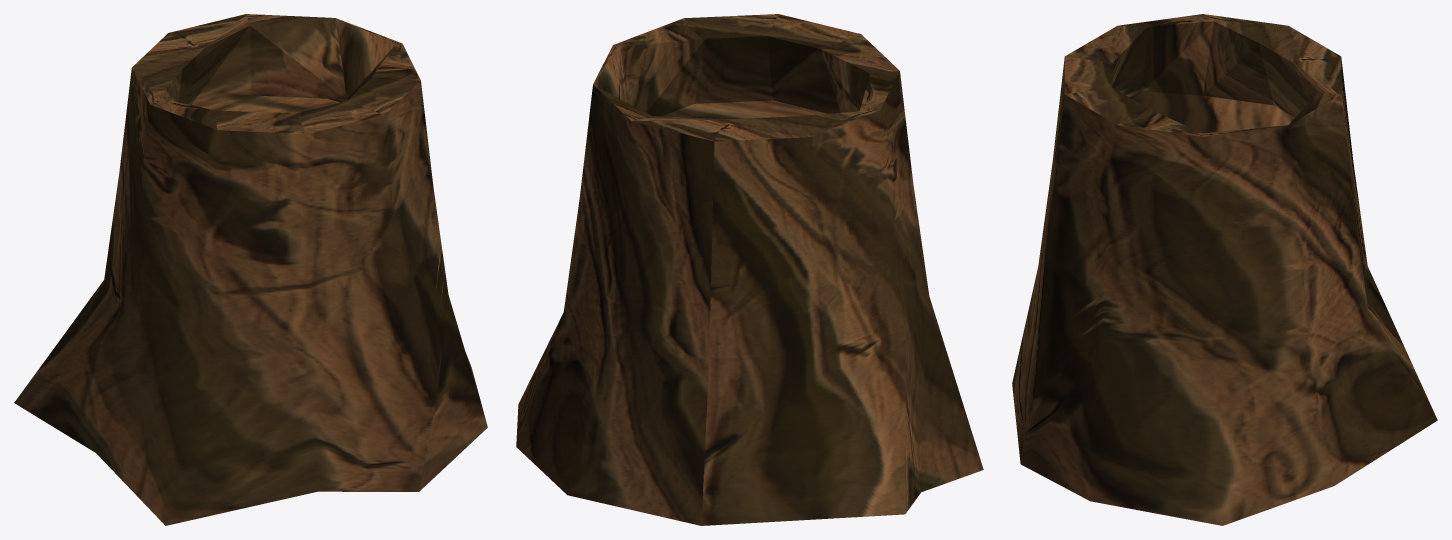
File: tree6.FBX
3 views of the same model, side by side, from view 1: azimuth 30°, elevation 25°; view 2: azimuth 150°, elevation 25°; view 3: azimuth 270°, elevation 25° (orthographic). The views are drawn at different scales.
Parts seen in each view (by area): view 1: Cylinder001; view 2: Cylinder001; view 3: Cylinder001.
Boxes of the visible parts, x1,y1,x2,y2 form: Cylinder001: (14,14,487,525); Cylinder001: (516,14,983,525); Cylinder001: (1012,14,1437,525).
Size of the model in its own units: 55.4 by 48.33 by 49.69.
